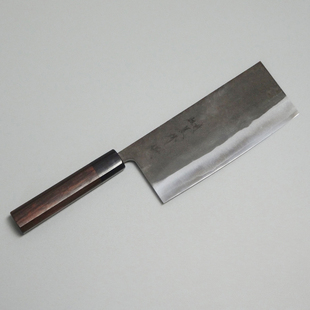knief: (21, 63, 299, 248)
